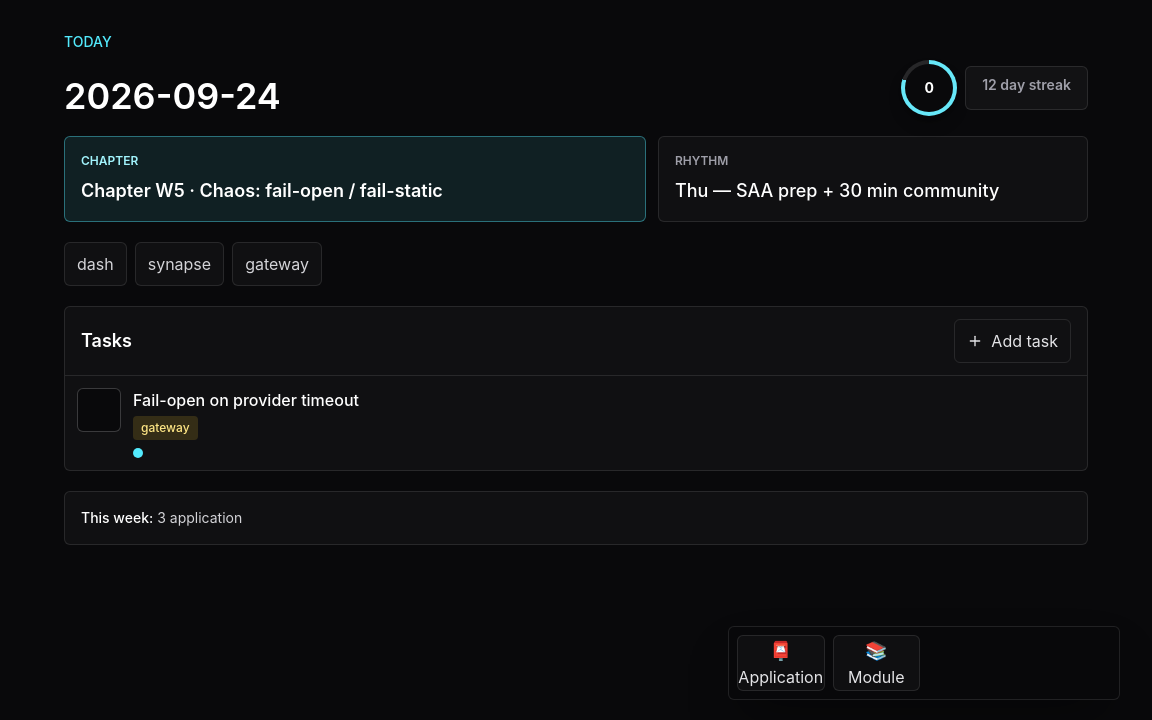
Scenario: TodayPage › keeps save disabled for a blank quick log and closes after a successful save
Click the button "📮 Application" at point(781, 663), box [737,635,824,691]
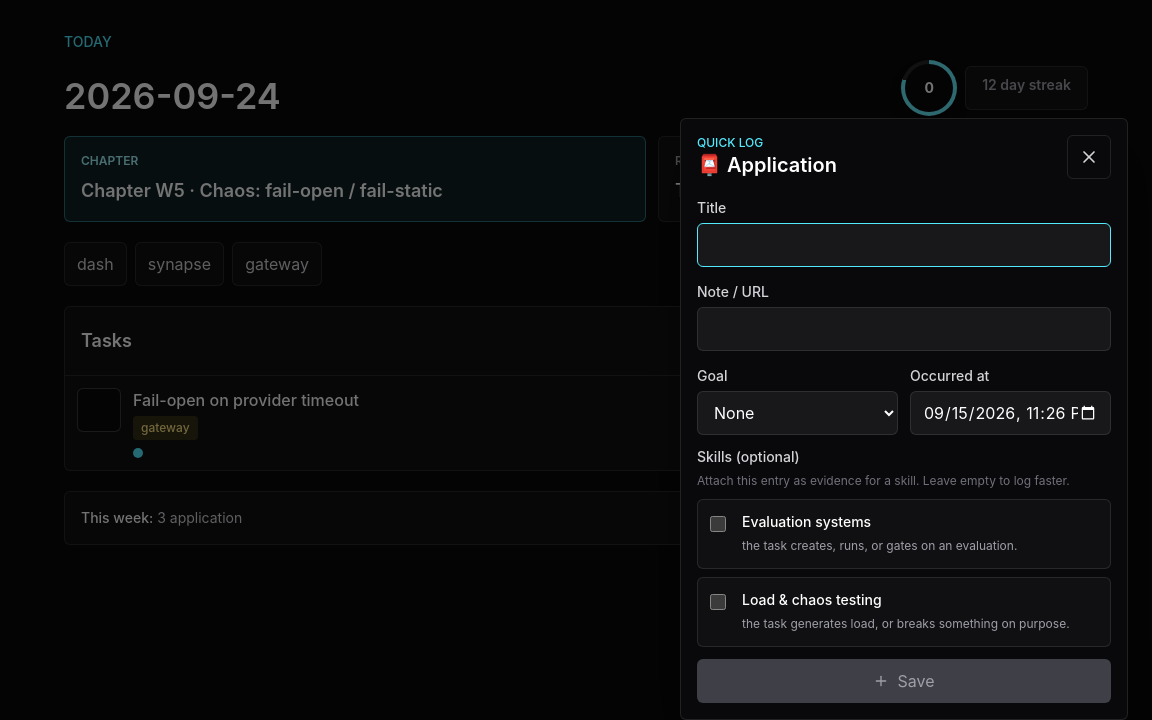
Check: the button "Save" is disabled, box [697,659,1111,703]
Type "Applied - Platform Engineer @ Acme" into the field labelled "Title" at point(904, 245), box [697,223,1111,267]
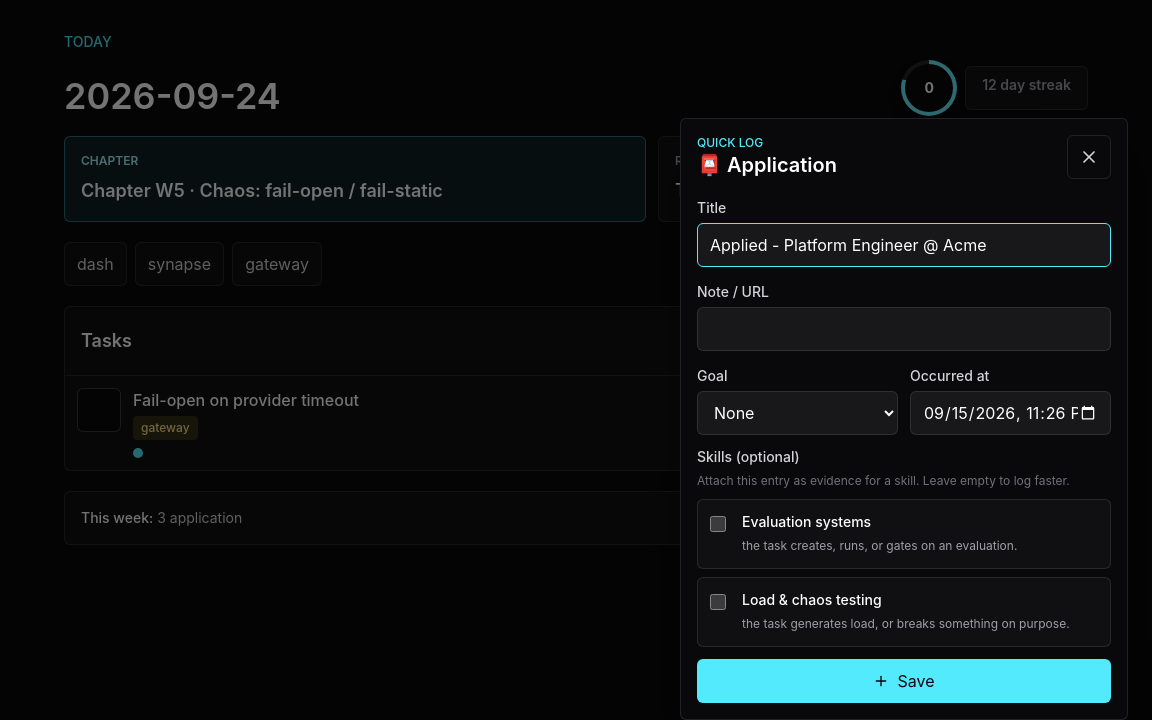
Check: the button "Save" is enabled
Click the button "Save" at point(904, 681), box [697,659,1111,703]
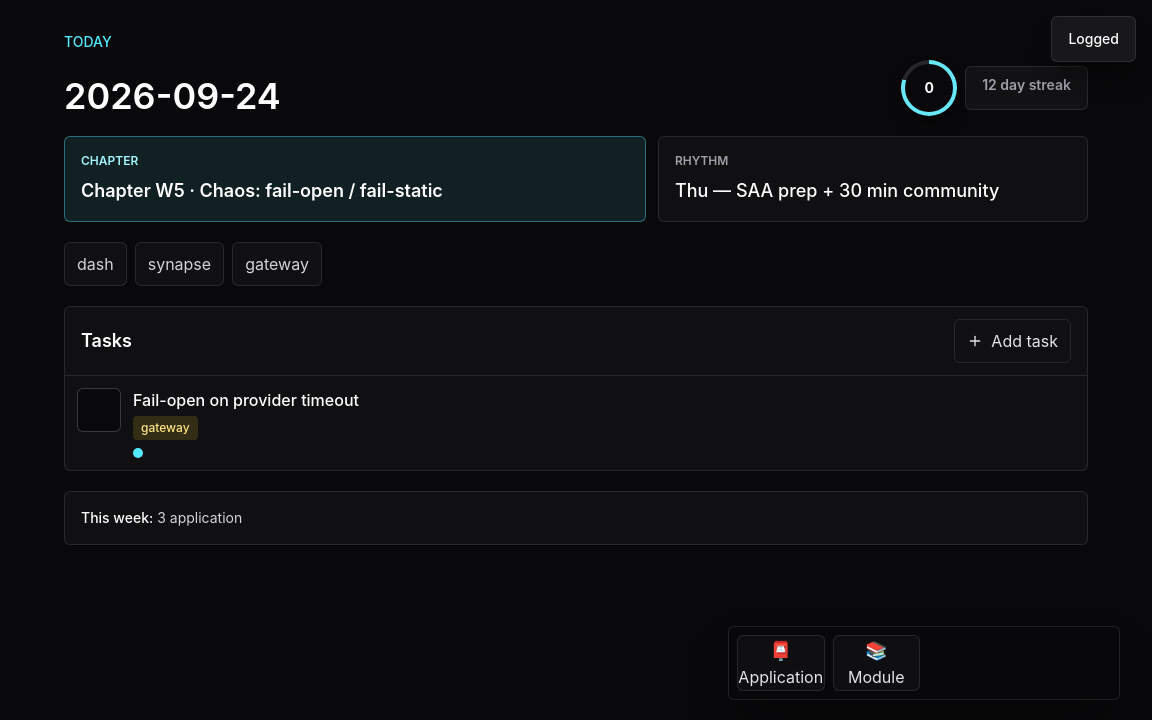
Check: the dialog is gone
